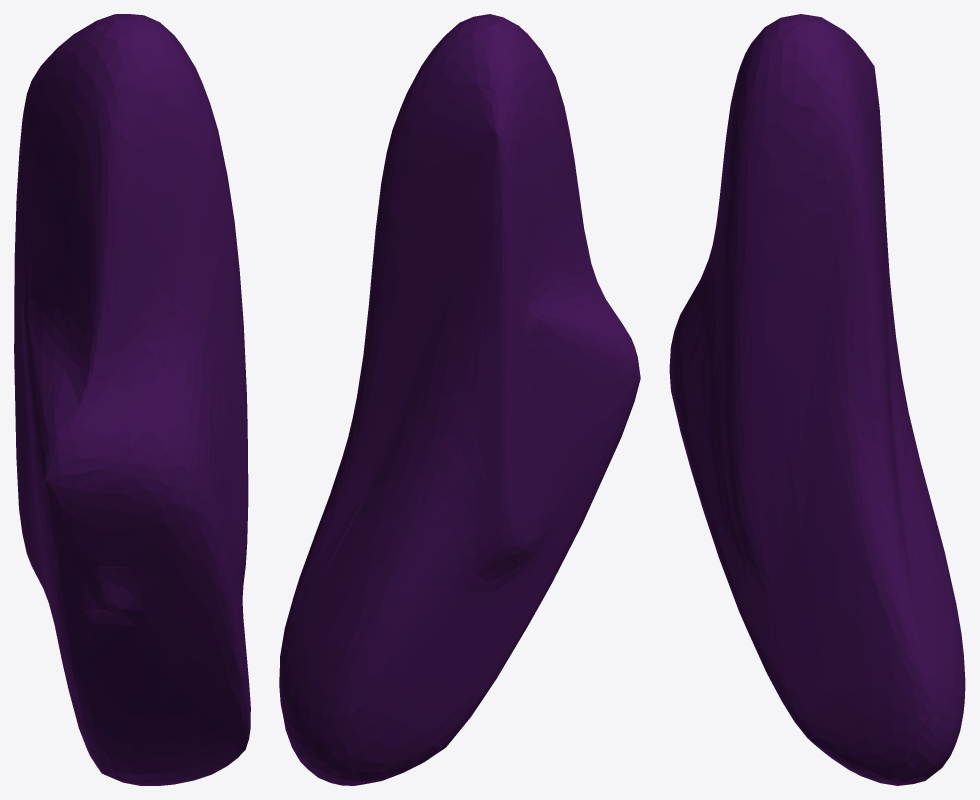
The picture shows the model from 3 angles, left to right: view 1: azimuth 30°, elevation 25°; view 2: azimuth 150°, elevation 25°; view 3: azimuth 270°, elevation 25°; orthographic projection. The views are drawn at different scales.
Visible parts, largest first — view 1: 870_Cube.3515; view 2: 870_Cube.3515; view 3: 870_Cube.3515.
Part boxes in pixels (x1,y1,x2,y2): 870_Cube.3515: (14, 14, 250, 785); 870_Cube.3515: (279, 14, 640, 785); 870_Cube.3515: (669, 14, 965, 785).
Size of the model in its own units: 6.09 by 16.73 by 6.22.
